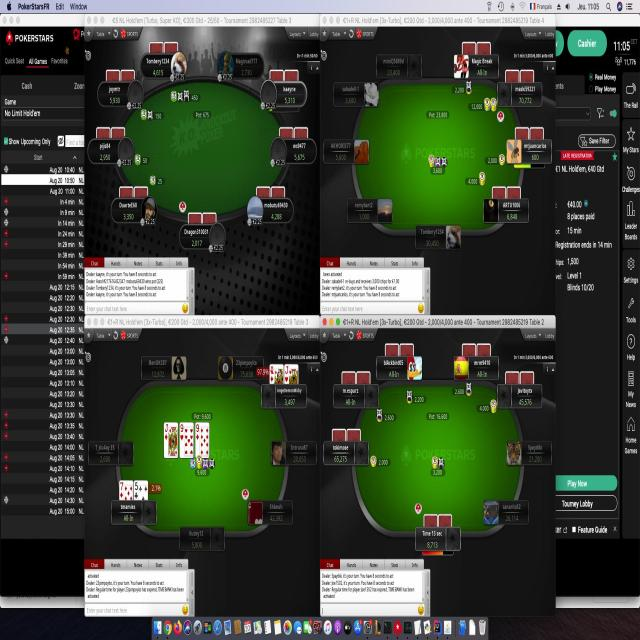7D: (134, 478, 139, 498), (119, 479, 124, 498)
9D: (194, 422, 201, 442)
9H: (179, 420, 184, 442)
JD: (164, 420, 169, 442)
JH: (283, 366, 291, 382)
QD: (269, 365, 275, 382)
